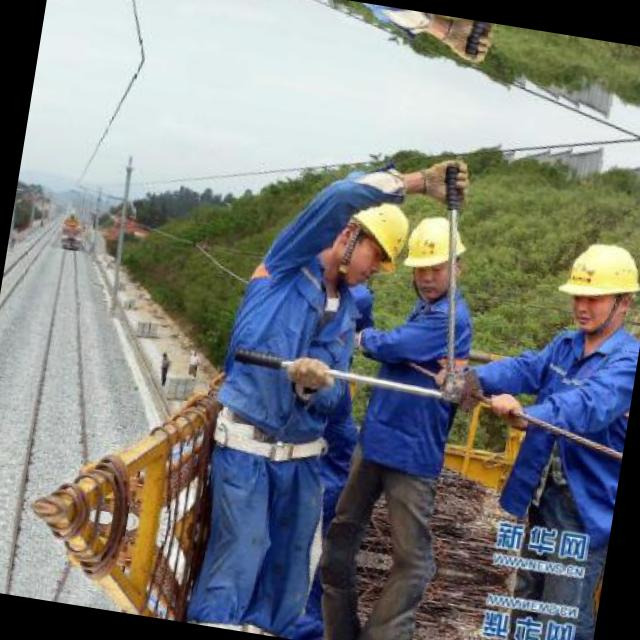helmet: (328, 184, 428, 293), (555, 230, 640, 346), (394, 202, 463, 308)
